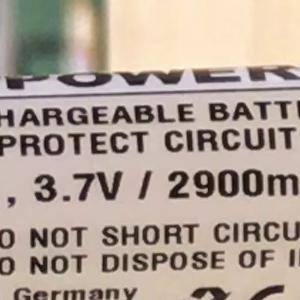3.7V: (24, 161, 130, 212)
